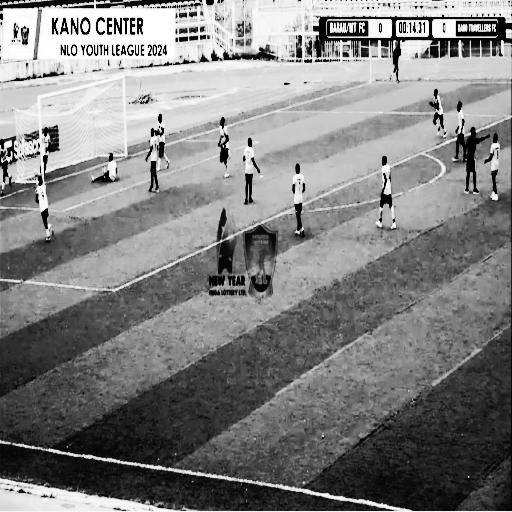ball: (31, 165, 39, 181)
keeper2: (86, 152, 125, 189)
referee: (463, 128, 484, 198), (390, 38, 405, 82)
team1: (29, 171, 62, 262), (373, 151, 406, 240), (426, 83, 453, 144), (154, 110, 176, 179), (217, 114, 235, 184), (0, 134, 17, 208)
team2: (288, 160, 311, 248), (240, 134, 261, 212), (141, 128, 164, 199), (485, 128, 505, 208), (454, 99, 464, 170), (42, 123, 51, 181)
